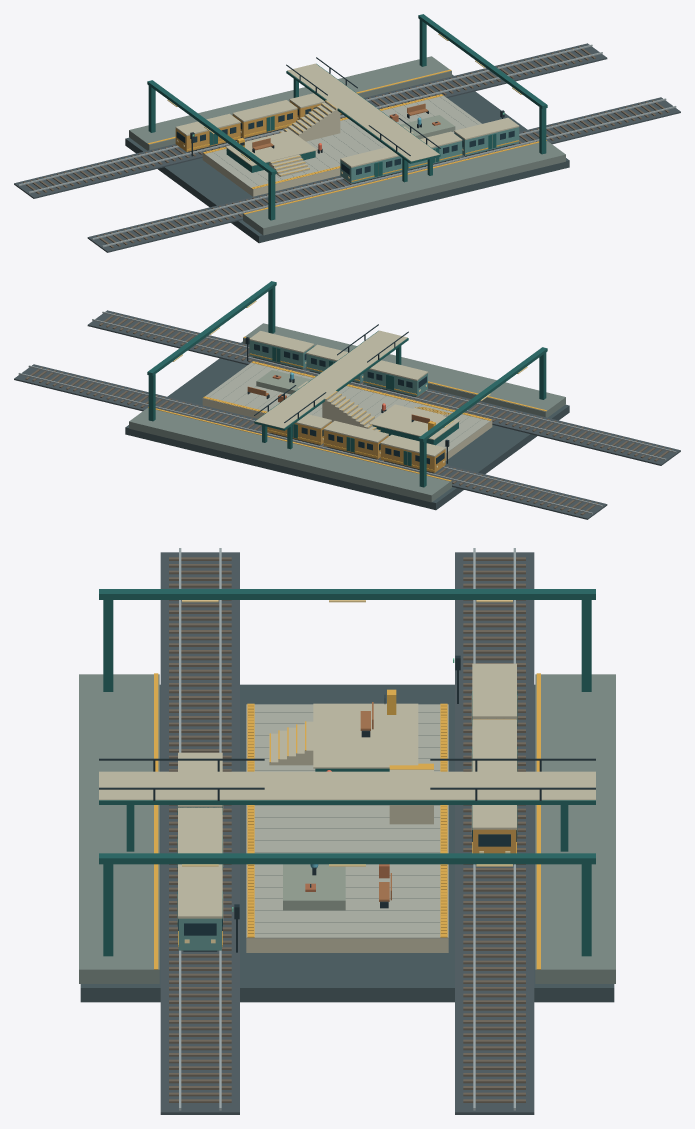
The model's file is station.glb.
3 renders of one model, top to bottom at view 1: azimuth 30°, elevation 25°; view 2: azimuth 150°, elevation 25°; view 3: azimuth 270°, elevation 25°, orthographic. The views are drawn at different scales.
Parts seen in each view (by area): view 1: Outer station platform (×2), Sunken track bed (×2), Cutaway station foundation, Platform stone surface, Steel rail (×4), Footbridge walkway, Train carriage (×5), Carriage roof (×5), Hall crossbeam (×2), West terrace coping, Island fighting platform, East luggage podium (+2 smaller); view 2: Outer station platform (×2), Sunken track bed (×2), Cutaway station foundation, Steel rail (×4), Platform stone surface, Footbridge walkway, Train carriage (×5), Carriage roof (×5), Hall crossbeam (×2), West terrace coping, Island fighting platform, East luggage podium (+4 smaller); view 3: Sunken track bed (×2), Outer station platform (×2), Platform stone surface, Cutaway station foundation, Footbridge walkway, Hall crossbeam (×2), Carriage roof (×6), West terrace coping, Steel rail (×4), Hall column (×4), Yellow tactile edge (×2), Island fighting platform (+5 smaller).
Boxes of the visible parts, x1,y1,x2,y2 form: Outer station platform (×2): (129,56,565,235); Sunken track bed (×2): (14,43,680,252); Cutaway station foundation: (125,74,569,243); Platform stone surface: (202,95,481,189); Steel rail (×4): (18,44,676,247); Footbridge walkway: (287,63,439,161); Train carriage (×5): (175,109,519,183); Carriage roof (×5): (175,100,519,167); Hall crossbeam (×2): (147,14,547,175); West terrace coping: (225,130,316,166); Island fighting platform: (202,153,340,196); East luggage podium: (400,115,455,138); Outer station platform (×2): (129,323,565,502); Sunken track bed (×2): (14,310,680,519); Cutaway station foundation: (125,341,569,510); Steel rail (×4): (18,311,676,514); Platform stone surface: (202,362,492,453); Footbridge walkway: (255,330,407,428); Train carriage (×5): (249,340,445,472); Carriage roof (×5): (249,331,445,456); Hall crossbeam (×2): (147,281,547,442); West terrace coping: (369,404,460,439); Island fighting platform: (202,399,492,460); East luggage podium: (256,370,311,394); Sunken track bed (×2): (160,552,534,1114); Outer station platform (×2): (79,674,615,983); Platform stone surface: (246,704,448,938); Cutaway station foundation: (80,684,614,1002); Footbridge walkway: (99,771,595,800); Hall crossbeam (×2): (99,589,595,864); Carriage roof (×6): (178,663,516,918); West terrace coping: (313,703,418,768); Steel rail (×4): (179,548,515,1110); Hall column (×4): (103,600,591,956); Yellow tactile edge (×2): (247,703,447,937); Island fighting platform: (246,938,448,952).
Bounding box in the file's own units: 101 × 10.65 × 40.88.
